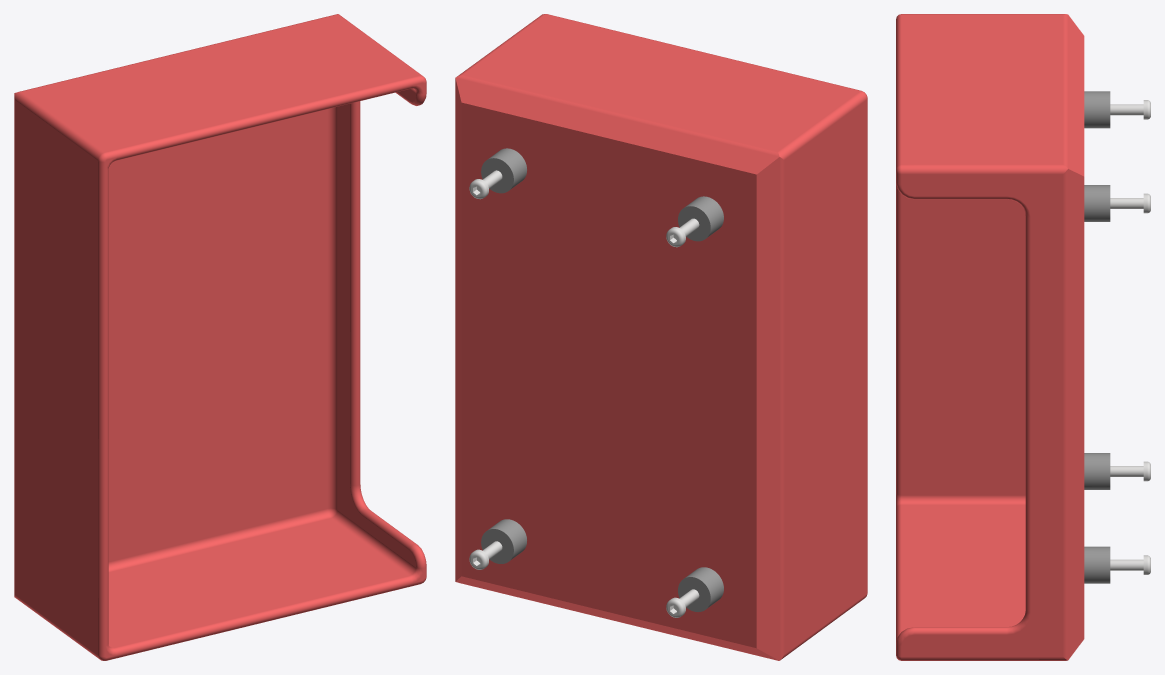
File: canecaRojo.dae
3 views of the same model, side by side, from view 1: azimuth 30°, elevation 25°; view 2: azimuth 150°, elevation 25°; view 3: azimuth 270°, elevation 25° (orthographic). The views are drawn at different scales.
Parts seen in each view (by area): view 1: ensambleCanecaTapaSlideRed; view 2: ensambleCanecaTapaSlideRed; view 3: ensambleCanecaTapaSlideRed.
Boxes of the visible parts, box(x1,y1,x2,y2) form: ensambleCanecaTapaSlideRed: box(14, 14, 426, 660); ensambleCanecaTapaSlideRed: box(455, 14, 867, 660); ensambleCanecaTapaSlideRed: box(896, 14, 1150, 660).
Bounding box in the file's own units: 100 × 69 × 148.
